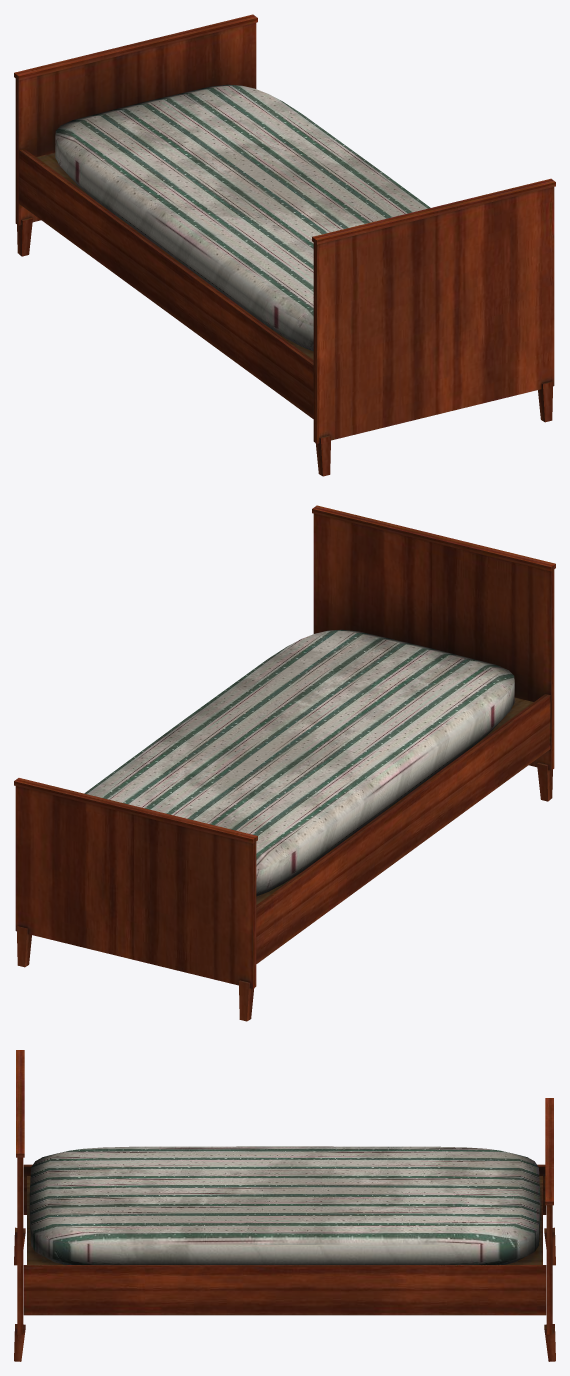
The model's file is bed_polished_web.glb.
The picture shows the model from 3 angles, top to bottom: view 1: azimuth 30°, elevation 25°; view 2: azimuth 150°, elevation 25°; view 3: azimuth 270°, elevation 25°; orthographic projection. The views are drawn at different scales.
Visible parts, largest first — view 1: BedPolished_Mesh; view 2: BedPolished_Mesh; view 3: BedPolished_Mesh.
Boxes of the visible parts, x1=… form: BedPolished_Mesh: x1=14, y1=14, x2=555, y2=476; BedPolished_Mesh: x1=14, y1=505, x2=555, y2=1021; BedPolished_Mesh: x1=14, y1=1050, x2=555, y2=1361.
Size of the model in its own units: 0.926 by 0.877 by 2.05.
1 material, 1 textured.
